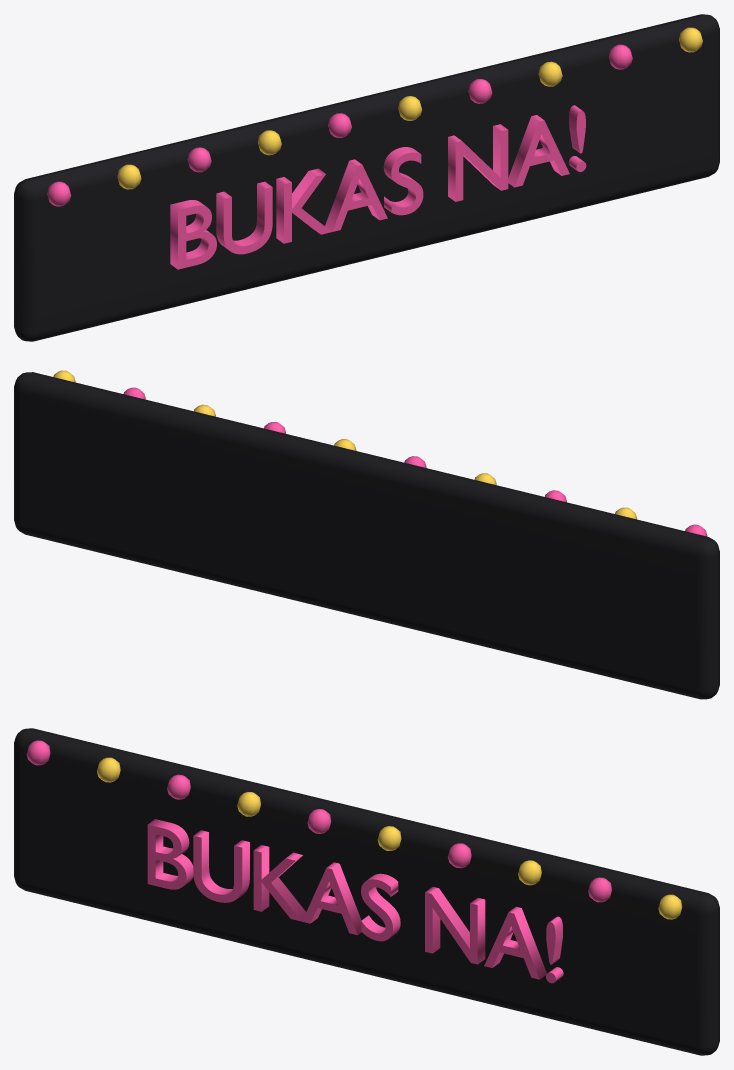
Rendered from neon.glb.
The picture shows the model from 3 angles, top to bottom: view 1: azimuth 30°, elevation 25°; view 2: azimuth 150°, elevation 25°; view 3: azimuth 330°, elevation 25°; orthographic projection.
Parts seen in each view (by area): view 1: NeonBack, NeonText; view 2: NeonBack; view 3: NeonBack, NeonText.
Boxes of the visible parts, <box> form: NeonBack: <box>14,14,719,341</box>; NeonText: <box>170,105,586,269</box>; NeonBack: <box>14,372,719,699</box>; NeonBack: <box>14,728,719,1055</box>; NeonText: <box>147,819,563,983</box>.
Size of the model in its own units: 3.2 by 0.7 by 0.19.
